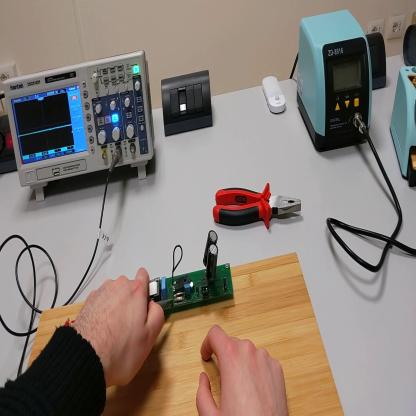hand: (74, 270, 166, 390), (196, 326, 290, 415)
high voltage board: (149, 230, 234, 312)
oscilloscope: (6, 46, 155, 202)
oscilloscope probe tip: (156, 298, 175, 310)
pliers: (212, 187, 302, 229)
socket: (367, 27, 388, 93), (2, 114, 19, 176), (404, 23, 416, 66)
welder base: (391, 63, 416, 190)
welder station: (298, 6, 371, 154)
working area: (31, 252, 344, 416)
